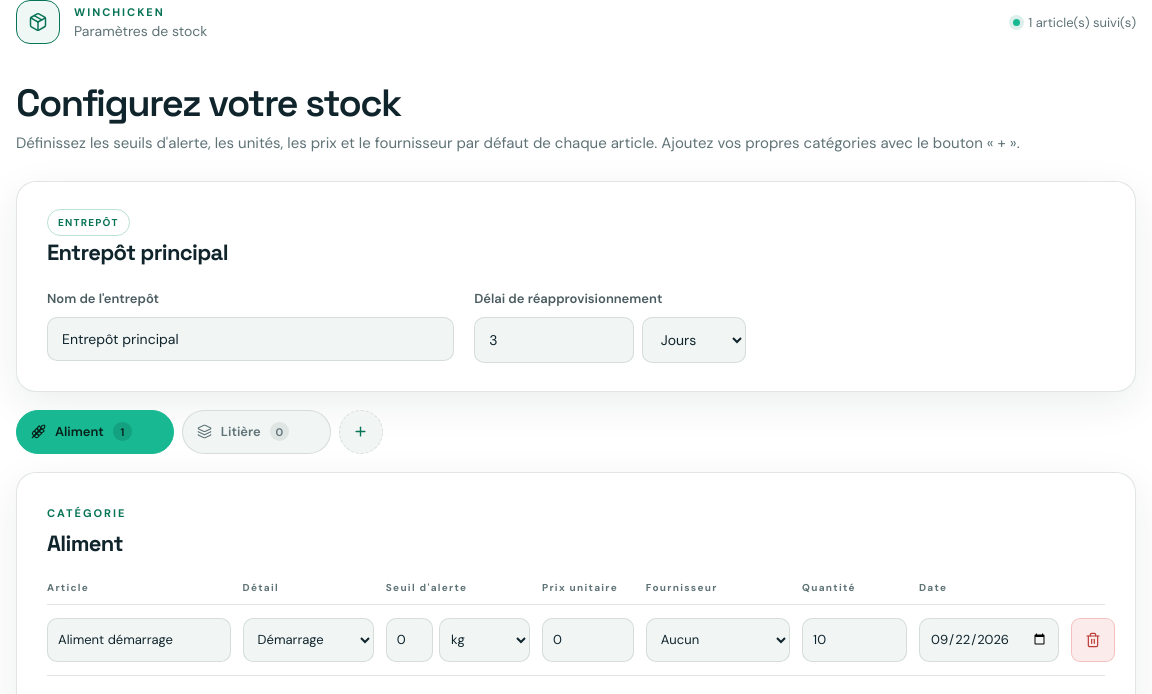
Test: StockParametersForm — inline supplier creation › a rejected creation says why and keeps the typed name on screen
Step 1. Select "+ Nouveau fournisseur" in the 4th dropdown → (718, 640), box top-left (646, 618), bottom-right (790, 662)
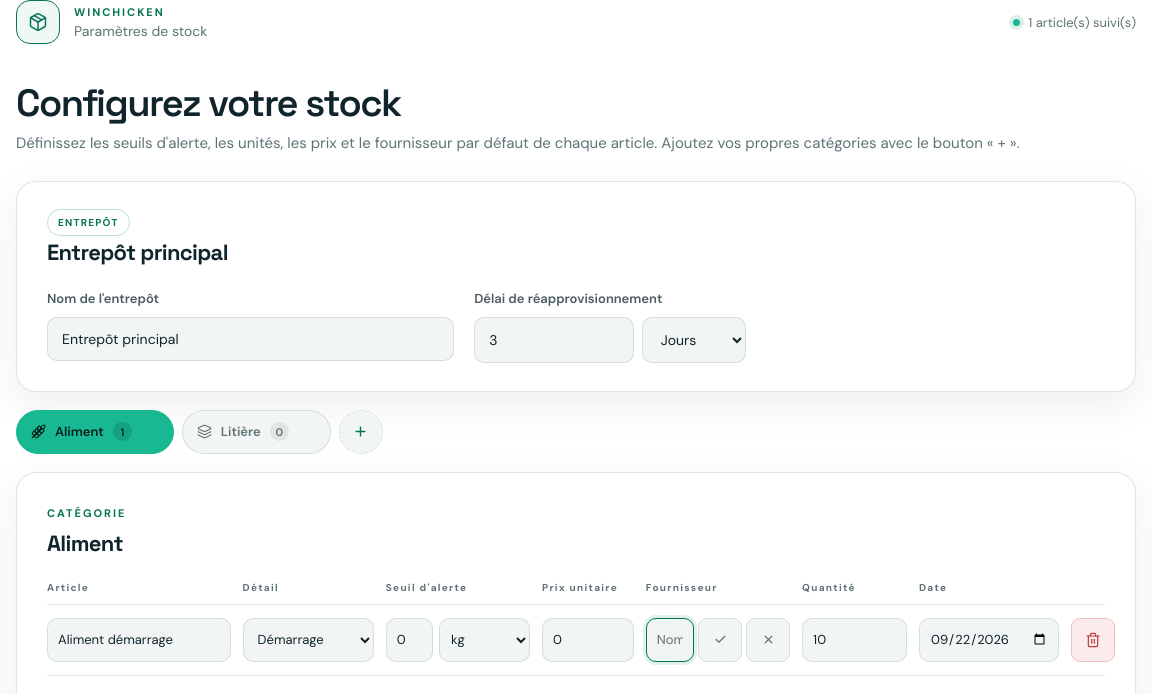
Step 2. Type "Provenderie du Sud" into the field with placeholder "Nom du fournisseur" → (670, 640), box top-left (646, 618), bottom-right (694, 662)
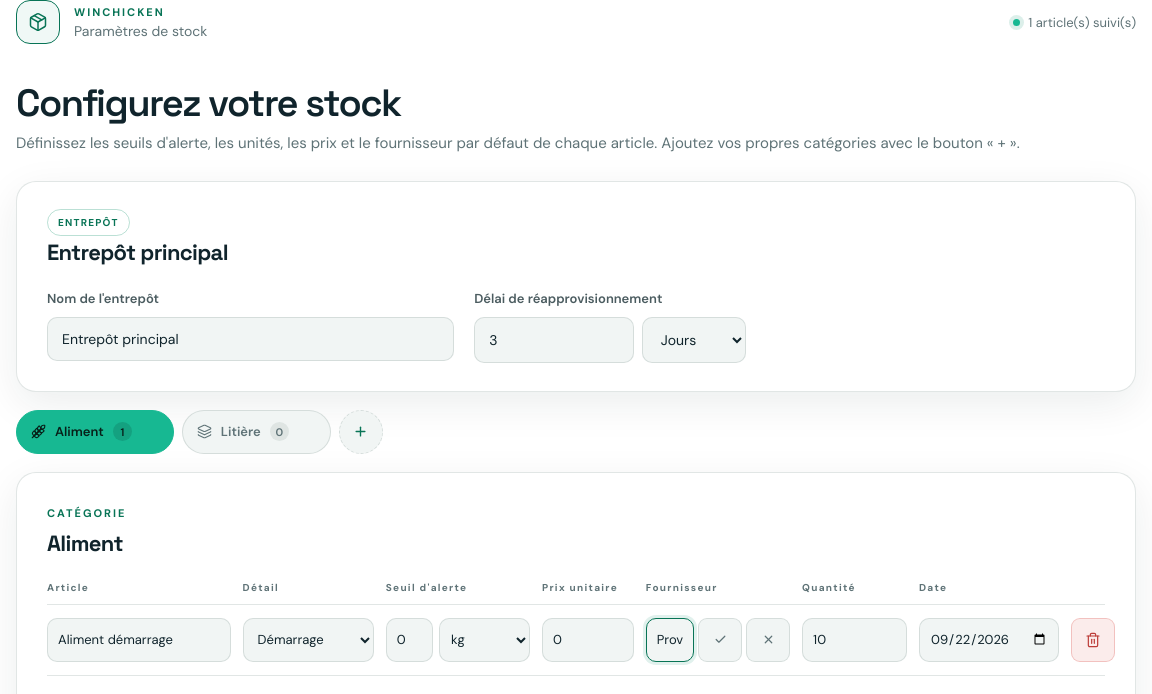
Step 3. Click the button named "Confirmer" → (720, 640), box top-left (698, 618), bottom-right (742, 662)
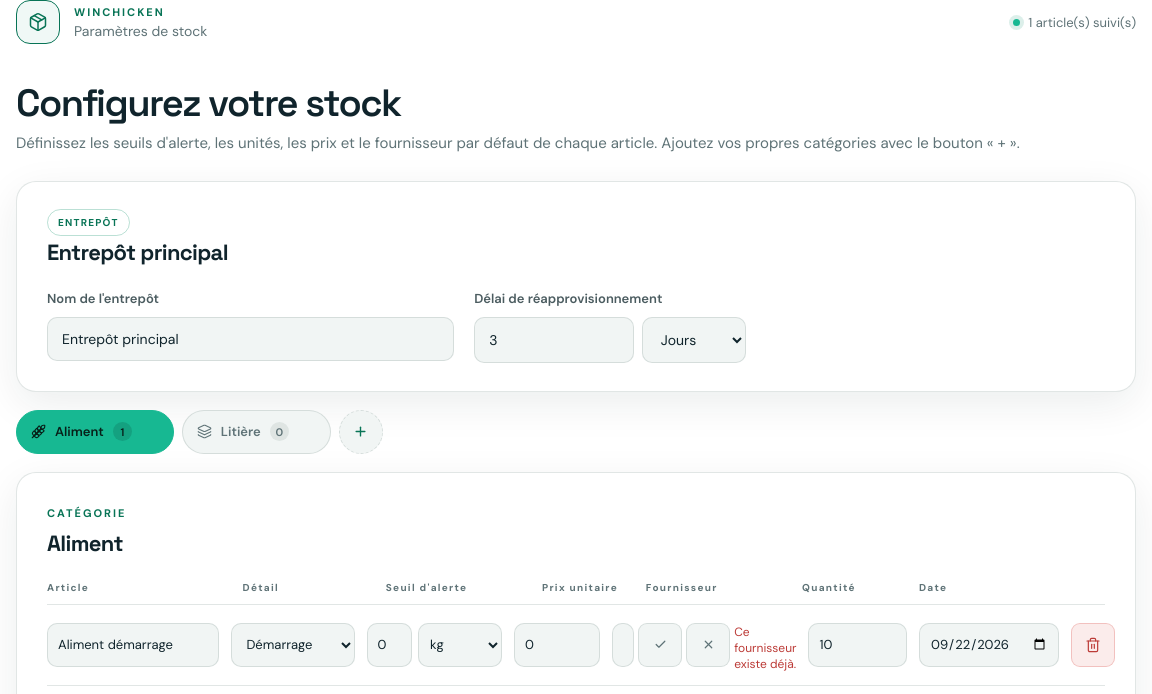
Result: the text "Ce fournisseur existe déjà." is shown at top-left (734, 624), bottom-right (796, 672)
